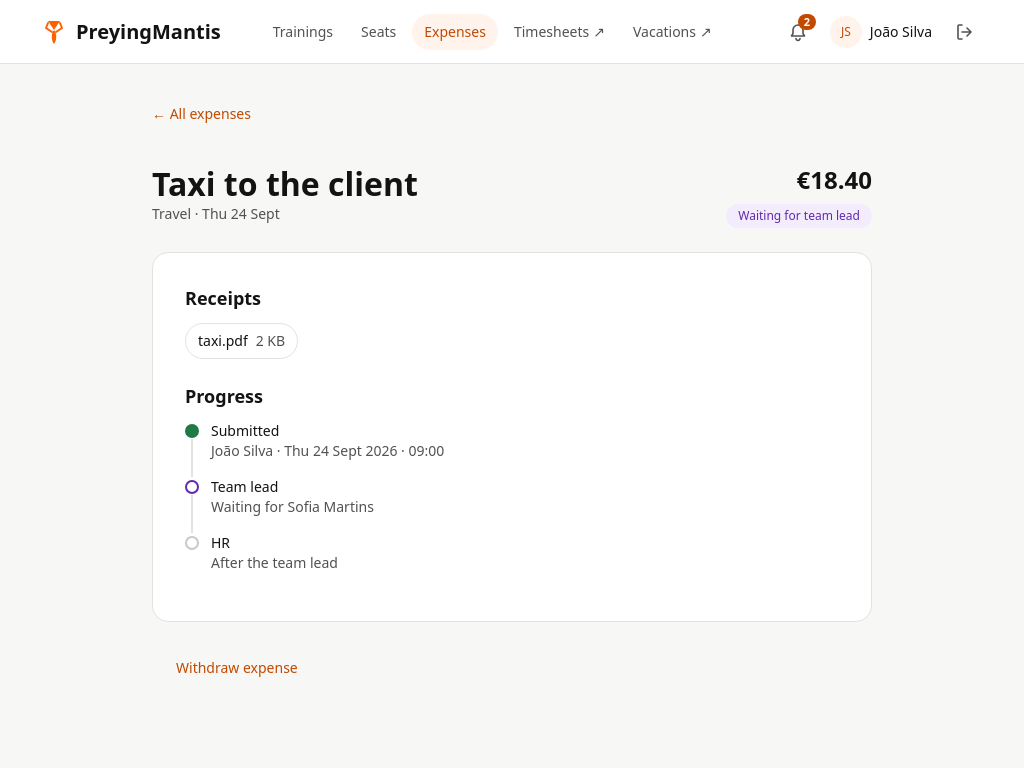
Scenario: my expenses › can be withdrawn while pending
Click the button "Withdraw expense".
click(237, 668)  # box [152,646,322,690]
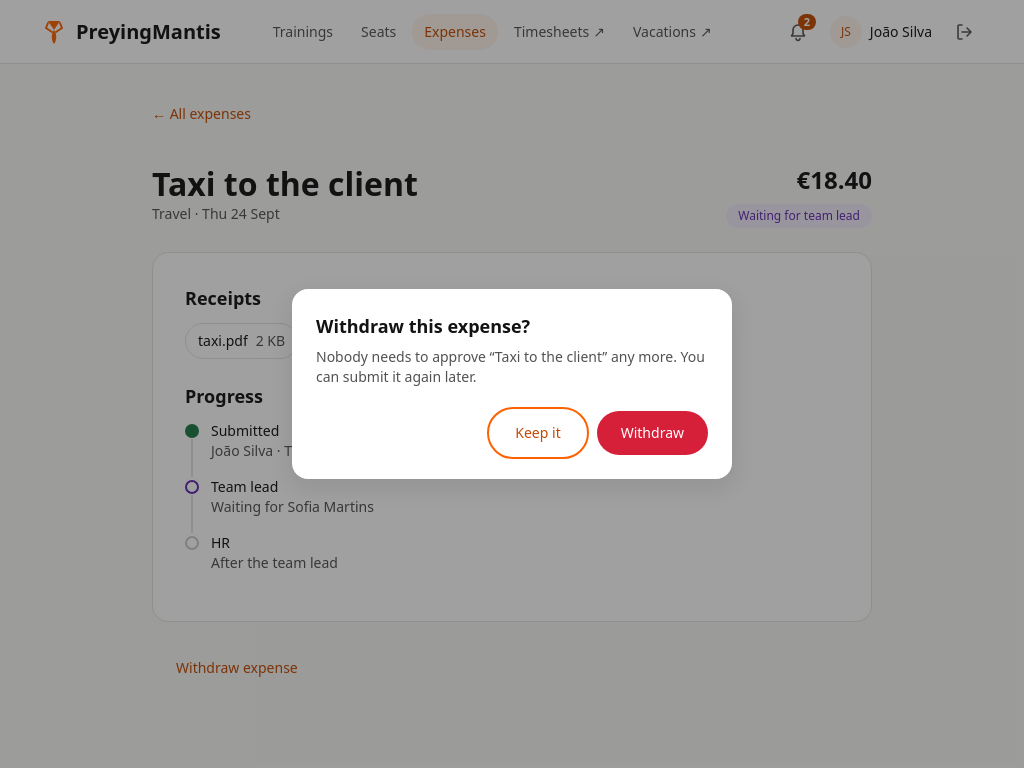
Click the button "Withdraw".
click(652, 433)  # box [597,411,708,455]
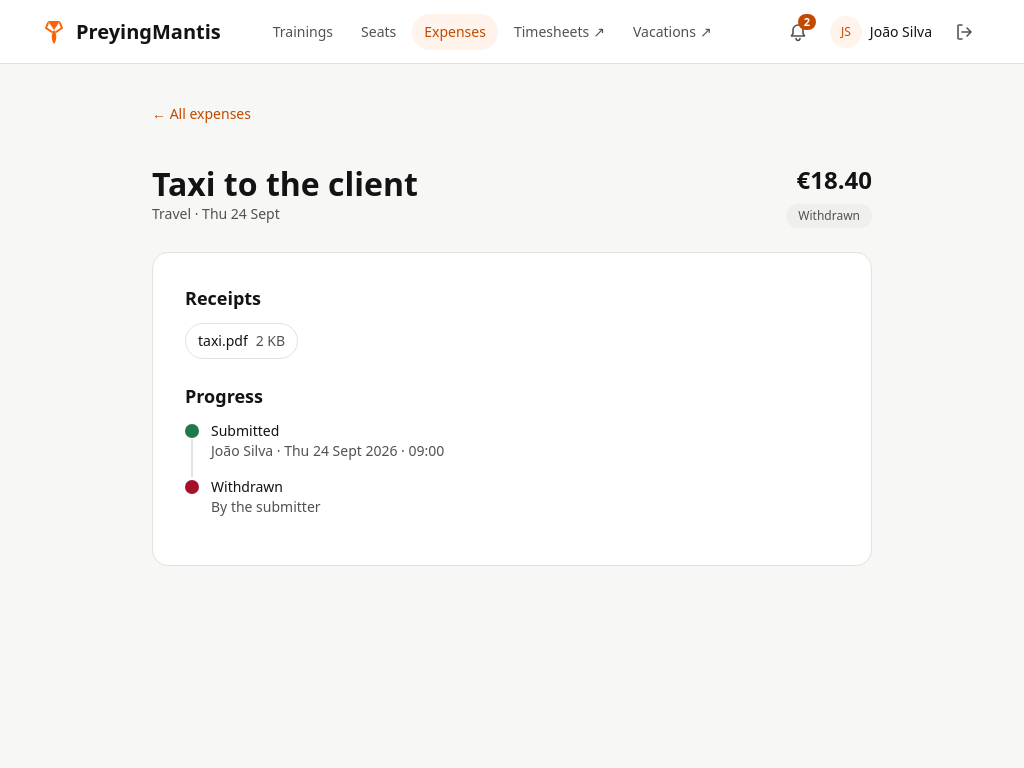
Expected: the text "Withdrawn" below "€18.40" is shown, [798,207,860,224]
Expected: the button "Withdraw expense" is gone
